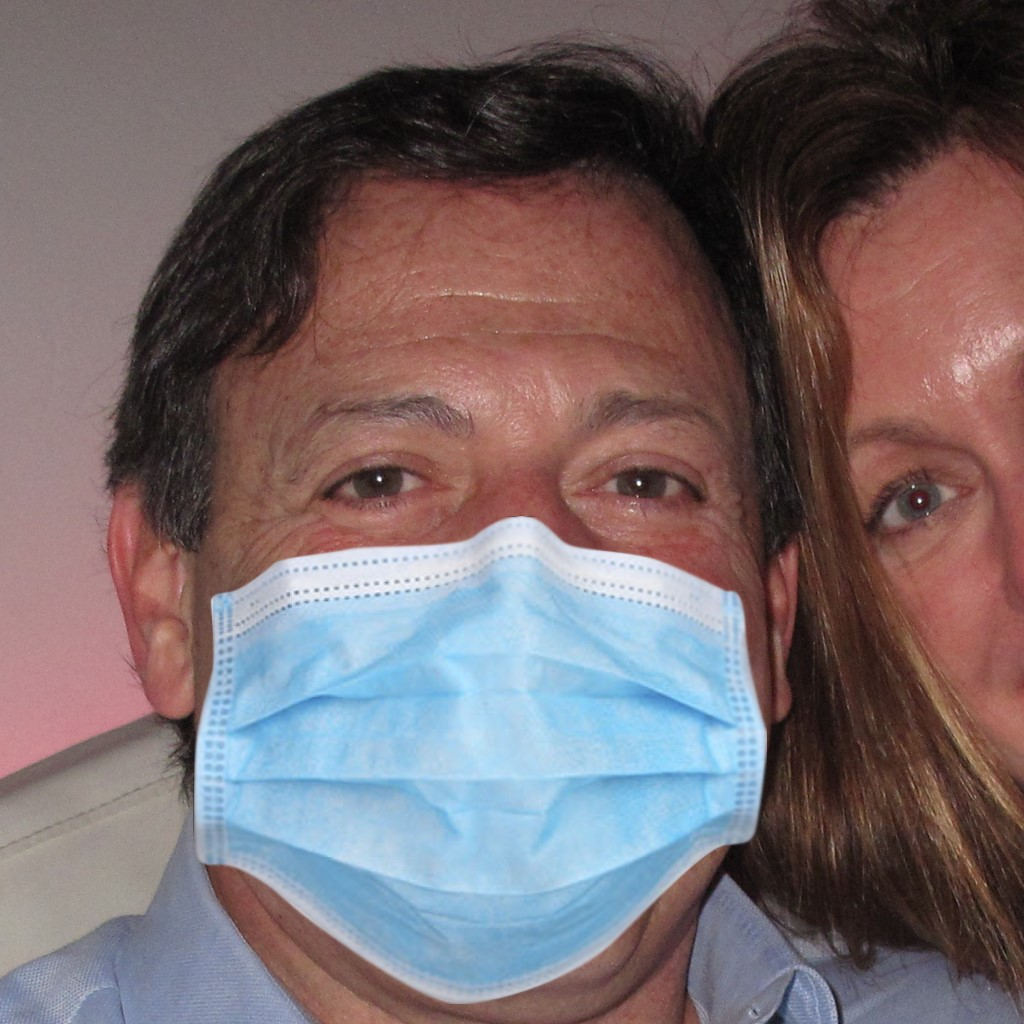con_mascara: (151, 168, 789, 983)
